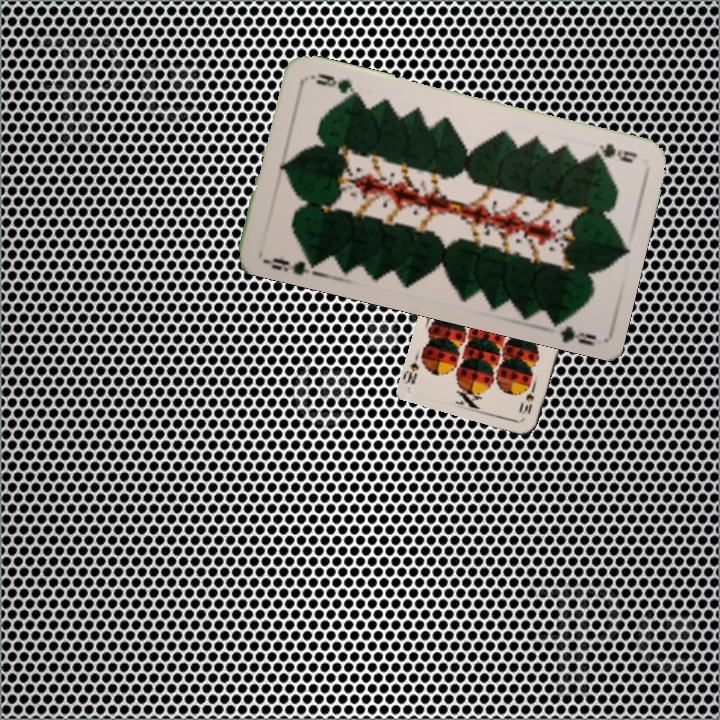G9: (259, 251, 318, 278), (587, 139, 640, 166)
S10: (517, 381, 538, 416)
